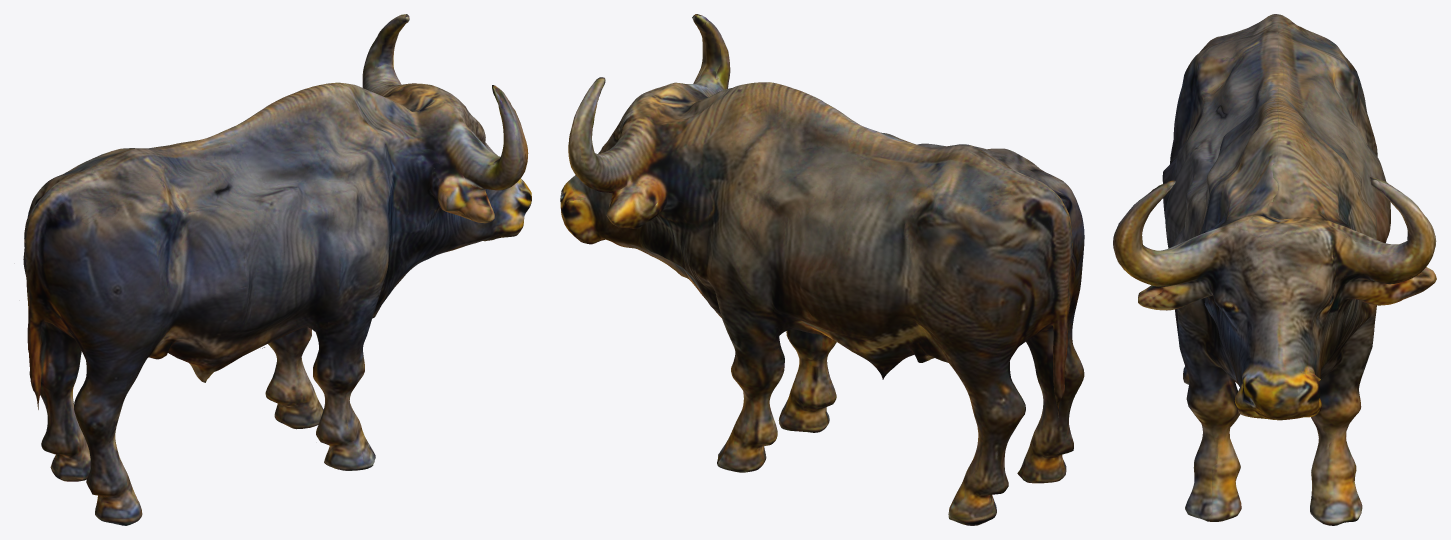
The model's file is african-buffalo.glb.
3 renders of one model, left to right at view 1: azimuth 30°, elevation 25°; view 2: azimuth 150°, elevation 25°; view 3: azimuth 270°, elevation 25°, orthographic. The views are drawn at different scales.
Bounding box in the file's own units: 1.2 × 0.8364 × 0.605.
Materials: 1 (1 with a texture image).
